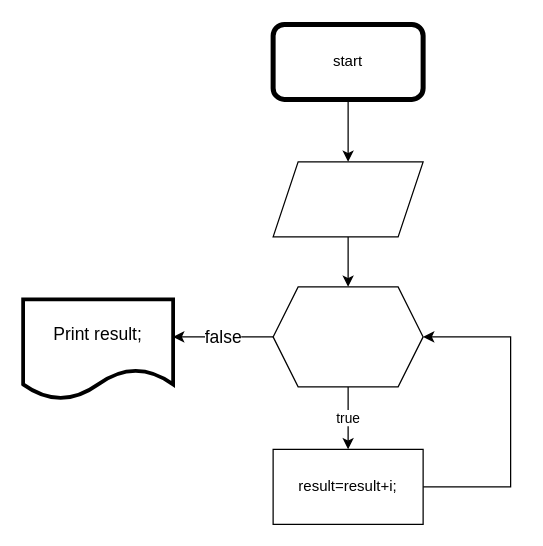
This 543x546 diagram has some shape labels left out. Here are the shapes that lost their labels. From the top down, the centre of each, then its label:
At (x=347, y=199): "result=0;".
At (x=347, y=336): "int i=0;i<=0;i++".
